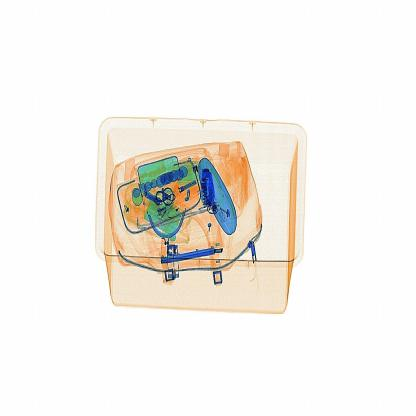scissors: (196, 156, 224, 220)
